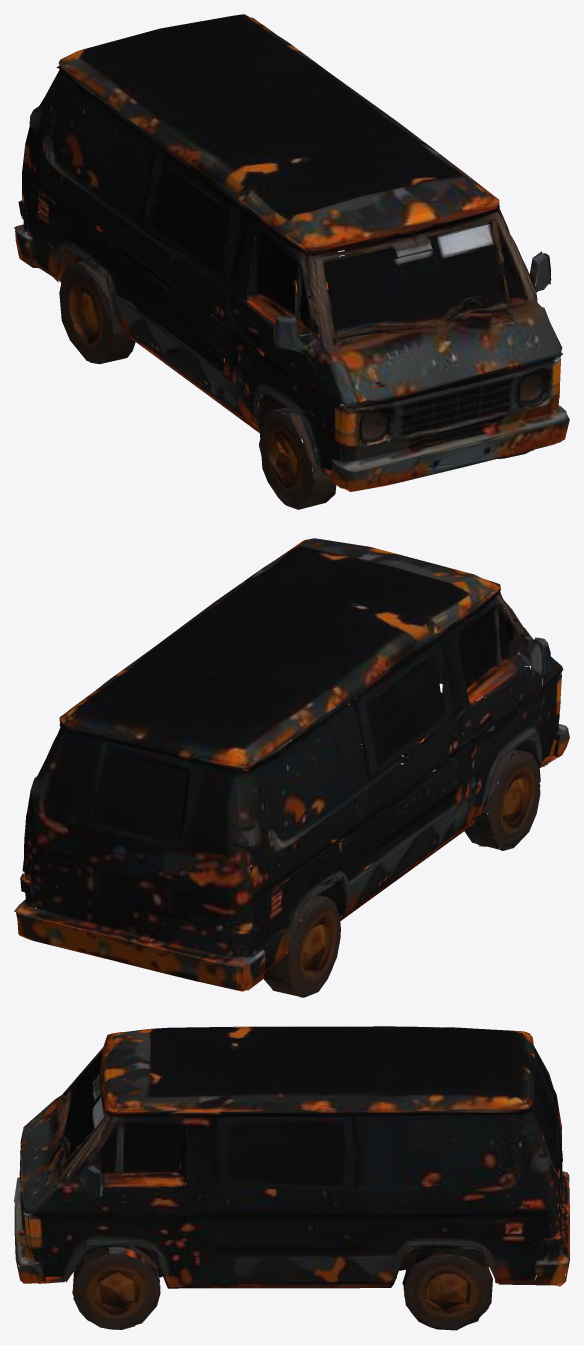
Rendered from burned_van.glb.
3 views of the same model, one above another, from view 1: azimuth 30°, elevation 25°; view 2: azimuth 150°, elevation 25°; view 3: azimuth 270°, elevation 25° (orthographic). The views are drawn at different scales.
Parts seen in each view (by area): view 1: obj.obj; view 2: obj.obj; view 3: obj.obj.
Part boxes in pixels (x1,y1,x2,y2): obj.obj: (14, 14, 569, 509); obj.obj: (14, 538, 569, 997); obj.obj: (14, 1026, 569, 1330).
Size of the model in its own units: 2.21 by 2.1 by 4.65.
1 material, 1 textured.
